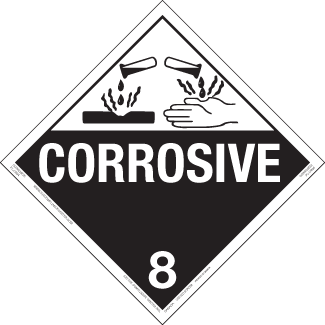Corrosive: (1, 1, 325, 325)
